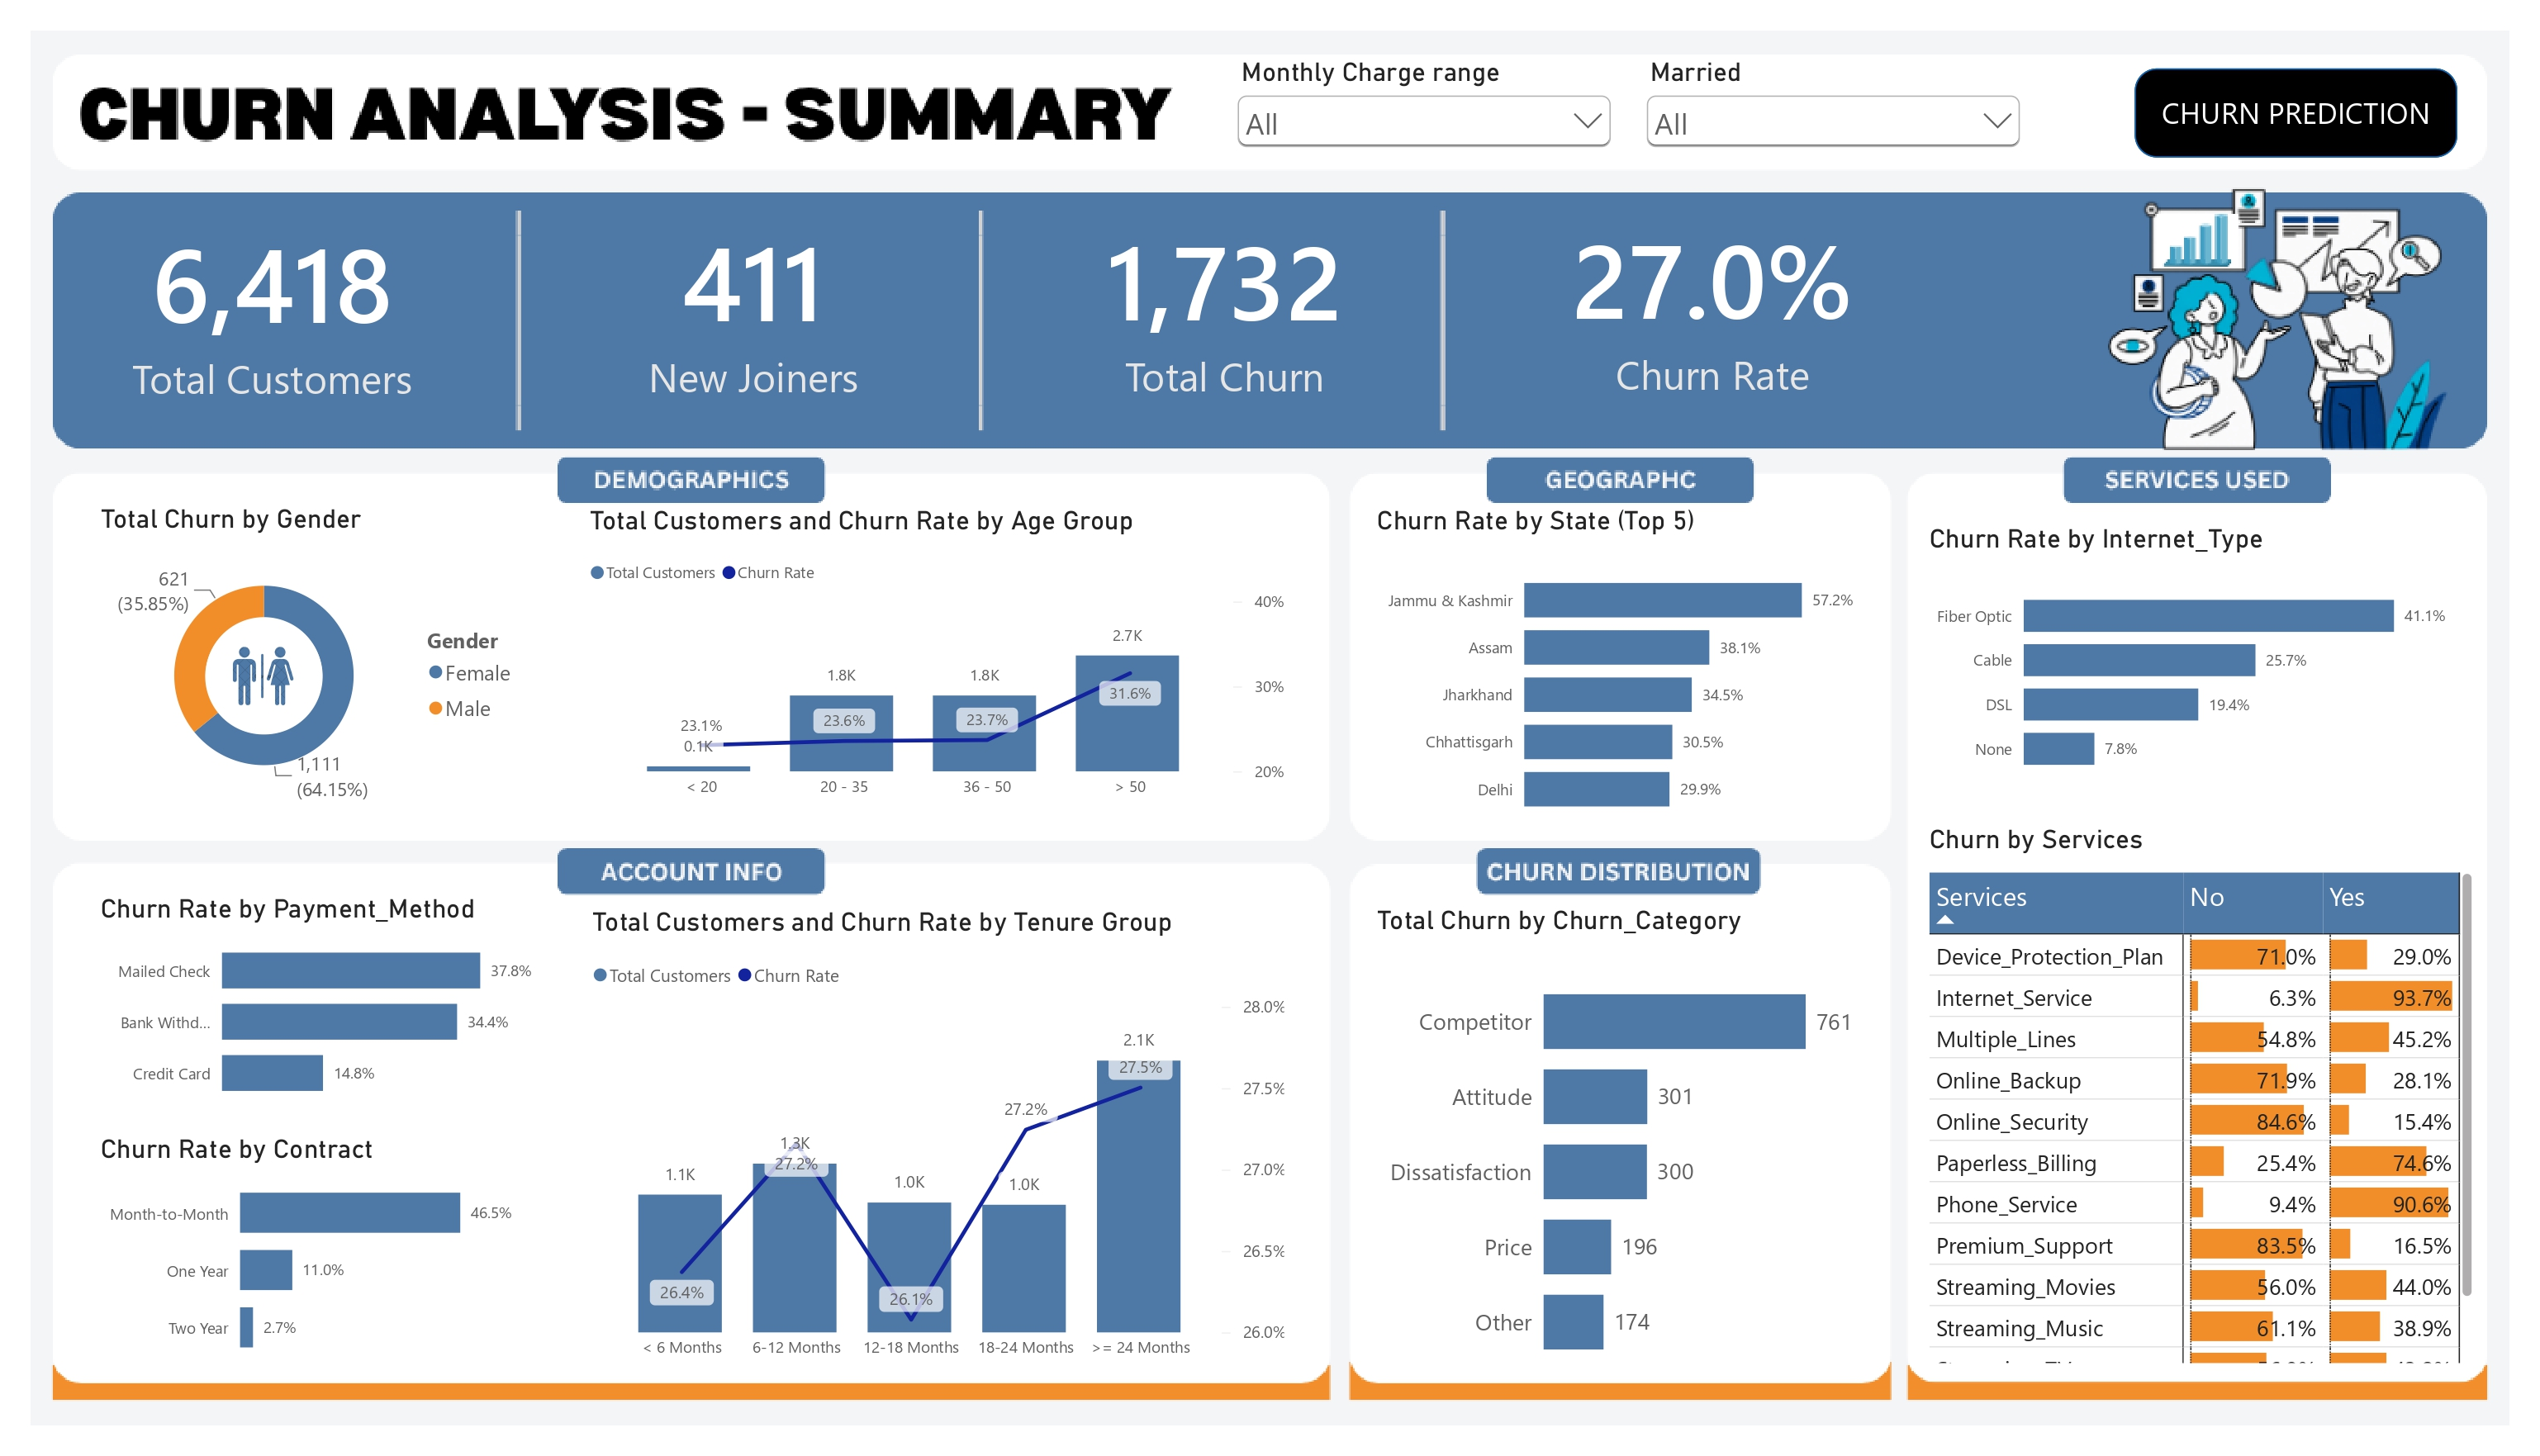

The dashboard page shown, as its layout file describes it:
{"tool":"powerbi","page":{"name":"Summary","canvas":[1920,1080],"ordinal":0},"visuals":[{"type":"cardVisual","fields":{"Data":["tbl_Measures.New Joiners"]},"box":[403.3,126.7,314,176],"z":0},{"type":"cardVisual","fields":{"Data":["tbl_Measures.Total Churn"]},"box":[770,125,310,178],"z":1000},{"type":"cardVisual","fields":{"Data":["tbl_Measures.Churn Rate"]},"box":[1140,125,326,176],"z":2000},{"type":"cardVisual","fields":{"Data":["tbl_Measures.Total Customers"]},"box":[38.3,126.7,298,178],"z":3000},{"type":"donutChart","title":"Total Churn by Gender","fields":{"Category":["prod_Churn.Gender"],"Y":["tbl_Measures.Total Churn"]},"box":[38.3,351.7,360,261.7],"z":4000},{"type":"lineStackedColumnComboChart","fields":{"Category":["mapping_AgeGrp.Age Group"],"Y":["tbl_Measures.Total Customers"],"Y2":["tbl_Measures.Churn Rate"]},"box":[416.7,353.3,570,261.7],"z":5000},{"type":"clusteredBarChart","fields":{"Category":["prod_Churn.Payment_Method"],"Y":["tbl_Measures.Churn Rate"]},"box":[38.1,654.3,366.4,185.6],"z":6000},{"type":"clusteredBarChart","fields":{"Category":["prod_Churn.Contract"],"Y":["tbl_Measures.Churn Rate"]},"box":[38.1,839.9,360,198.8],"z":7000},{"type":"lineStackedColumnComboChart","fields":{"Category":["mapping_TenureGrp.Tenure Group"],"Y":["tbl_Measures.Total Customers"],"Y2":["tbl_Measures.Churn Rate"]},"box":[418.7,663.8,568.6,385.4],"z":8000},{"type":"clusteredBarChart","title":"Churn Rate by State (Top 5)","fields":{"Category":["prod_Churn.State"],"Y":["tbl_Measures.Churn Rate"]},"box":[1026.7,353.3,401.7,280],"z":9000},{"type":"clusteredBarChart","fields":{"Category":["prod_Churn.Churn_Category"],"Y":["tbl_Measures.Total Churn"]},"box":[1026.7,663.3,401.7,400],"z":10000},{"type":"clusteredBarChart","fields":{"Category":["prod_Churn.Internet_Type"],"Y":["tbl_Measures.Churn Rate"]},"box":[1455,366.7,454.4,233.2],"z":11000},{"type":"pivotTable","title":"Churn by Services","fields":{"Columns":["prod_Services.Status"],"Rows":["prod_Services.Services"],"Values":["Sum(prod_Services.Churn Status)"]},"box":[1455,600,453.3,448.3],"z":12000},{"type":"slicer","fields":{"Values":["prod_Services.Monthly Charge Status"]},"box":[930,20,299,105.9],"z":13000},{"type":"slicer","fields":{"Values":["prod_Services.Married"]},"box":[1246.7,20,299,105.9],"z":14000},{"type":"shape","box":[1630,28.8,249.8,69],"z":14001}]}

Visuals, with their boxes on the page's 1920x1080 design canvas (x1, y1, x2, y2). These are canvas units, not pixel positions in the 2540x1456 screenshot, which may show the page scaled, cropped or inside an application window:
cardVisual - tbl_Measures.New Joiners: x1=403 y1=127 x2=717 y2=303
cardVisual - tbl_Measures.Total Churn: x1=770 y1=125 x2=1080 y2=303
cardVisual - tbl_Measures.Churn Rate: x1=1140 y1=125 x2=1466 y2=301
cardVisual - tbl_Measures.Total Customers: x1=38 y1=127 x2=336 y2=305
"Total Churn by Gender" donutChart: x1=38 y1=352 x2=398 y2=613
lineStackedColumnComboChart - mapping_AgeGrp.Age Group x tbl_Measures.Total Customers: x1=417 y1=353 x2=987 y2=615
clusteredBarChart - prod_Churn.Payment_Method x tbl_Measures.Churn Rate: x1=38 y1=654 x2=404 y2=840
clusteredBarChart - prod_Churn.Contract x tbl_Measures.Churn Rate: x1=38 y1=840 x2=398 y2=1039
lineStackedColumnComboChart - mapping_TenureGrp.Tenure Group x tbl_Measures.Total Customers: x1=419 y1=664 x2=987 y2=1049
"Churn Rate by State (Top 5)" clusteredBarChart: x1=1027 y1=353 x2=1428 y2=633
clusteredBarChart - prod_Churn.Churn_Category x tbl_Measures.Total Churn: x1=1027 y1=663 x2=1428 y2=1063
clusteredBarChart - prod_Churn.Internet_Type x tbl_Measures.Churn Rate: x1=1455 y1=367 x2=1909 y2=600
"Churn by Services" pivotTable: x1=1455 y1=600 x2=1908 y2=1048
slicer - prod_Services.Monthly Charge Status: x1=930 y1=20 x2=1229 y2=126
slicer - prod_Services.Married: x1=1247 y1=20 x2=1546 y2=126
shape: x1=1630 y1=29 x2=1880 y2=98
